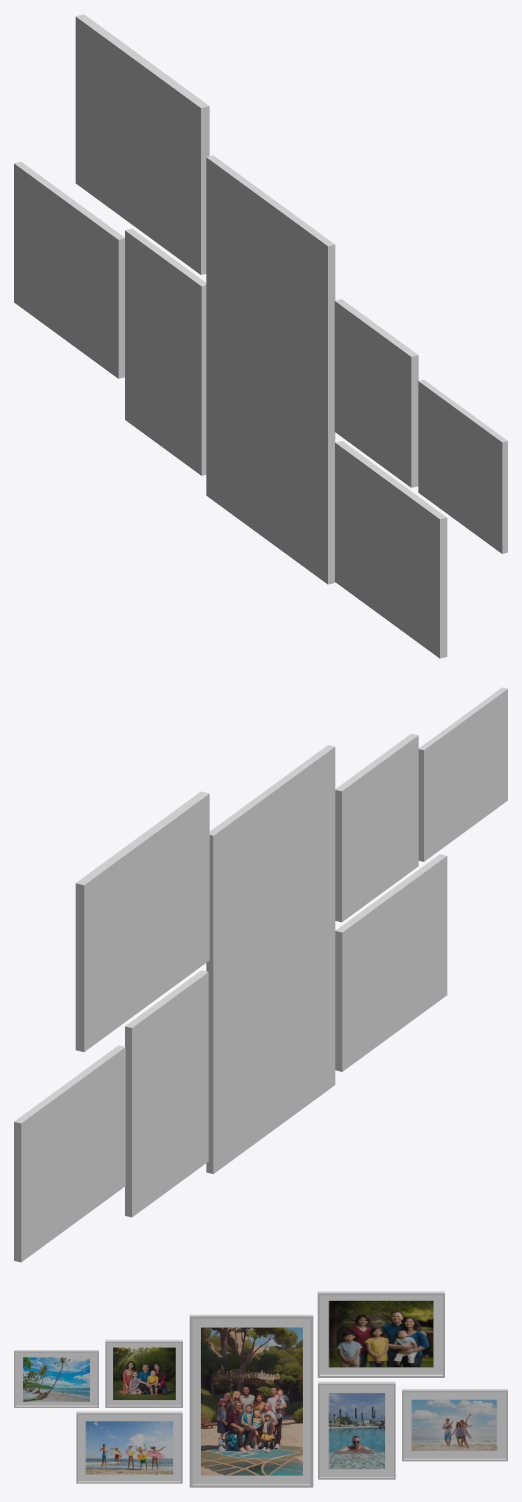
File: Painting_Wall.fbx
3 views of the same model, one above another, from view 1: azimuth 30°, elevation 25°; view 2: azimuth 150°, elevation 25°; view 3: azimuth 270°, elevation 25° (orthographic). The views are drawn at different scales.
Visible parts, largest first — view 1: frame.007; view 2: frame.007; view 3: painting, painting.004, frame.007, painting.006, painting.002, painting.003, painting.005, painting.007.
Part boxes in pixels (x1=…): frame.007: x1=14, y1=14, x2=507, y2=658; frame.007: x1=14, y1=687, x2=507, y2=1262; painting: x1=192, y1=1319, x2=310, y2=1484; painting.004: x1=319, y1=1295, x2=442, y2=1374; frame.007: x1=14, y1=1291, x2=507, y2=1487; painting.006: x1=78, y1=1414, x2=180, y2=1481; painting.002: x1=319, y1=1385, x2=393, y2=1477; painting.003: x1=403, y1=1392, x2=506, y2=1458; painting.005: x1=107, y1=1343, x2=181, y2=1405; painting.007: x1=15, y1=1352, x2=97, y2=1405.
Size of the model in its own units: 13.39 by 568 by 1306.
